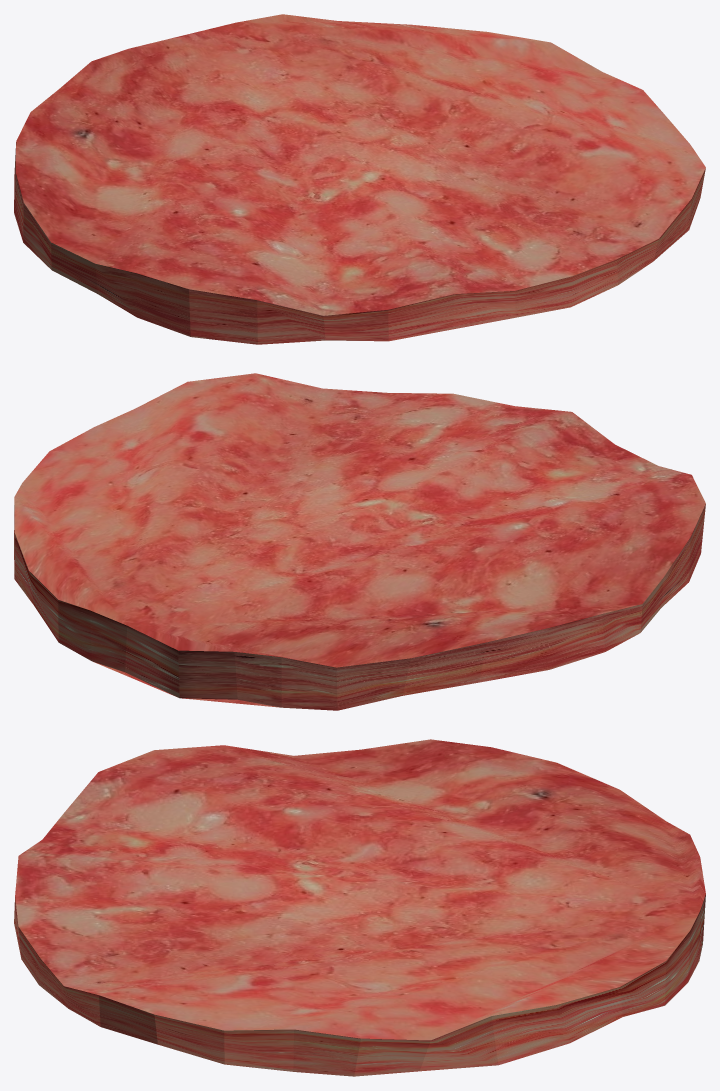
The model's file is salami_2.obj.
3 renders of one model, top to bottom at view 1: azimuth 30°, elevation 25°; view 2: azimuth 150°, elevation 25°; view 3: azimuth 270°, elevation 25°, orthographic. The views are drawn at different scales.
Parts seen in each view (by area): view 1: Cylinder_Cylinder.002; view 2: Cylinder_Cylinder.002; view 3: Cylinder_Cylinder.002.
Boxes of the visible parts, x1,y1,x2,y2 form: Cylinder_Cylinder.002: (14,14,705,344); Cylinder_Cylinder.002: (14,373,705,710); Cylinder_Cylinder.002: (14,739,705,1076).
Size of the model in its own units: 0.2289 by 0.023 by 0.2252.
1 material, 1 textured.
